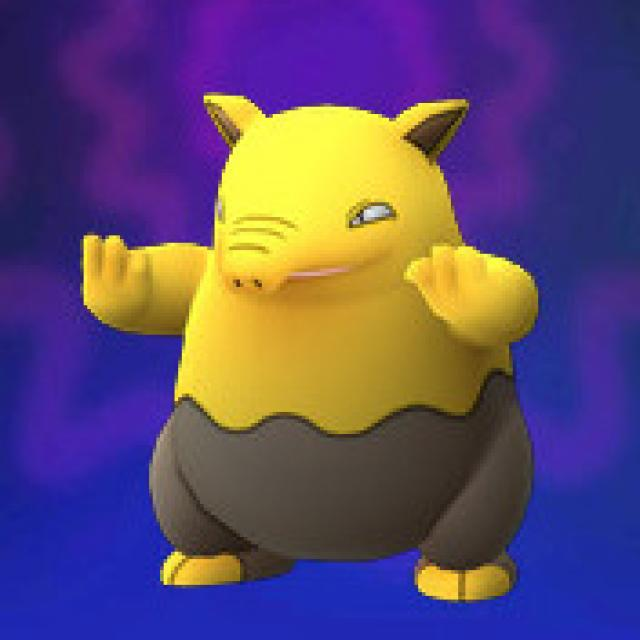Drowzee: (126, 94, 540, 590)
